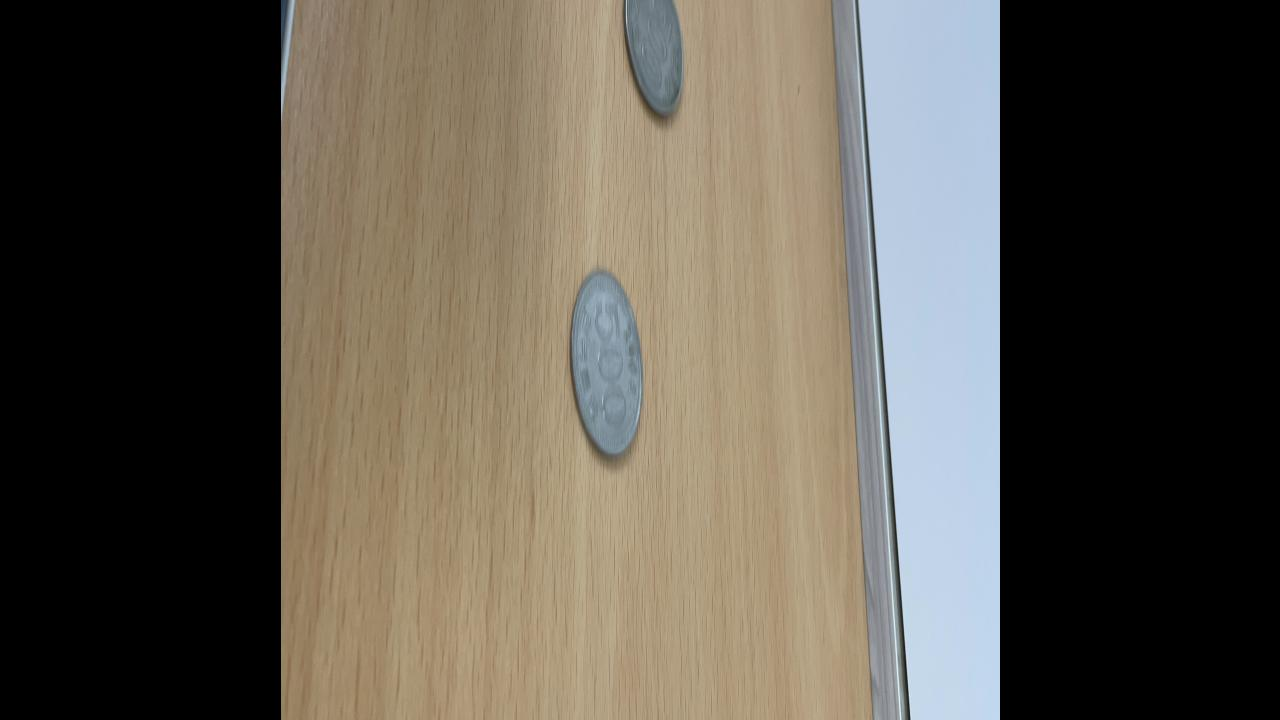coin: (567, 264, 645, 463), (621, 0, 684, 120)
